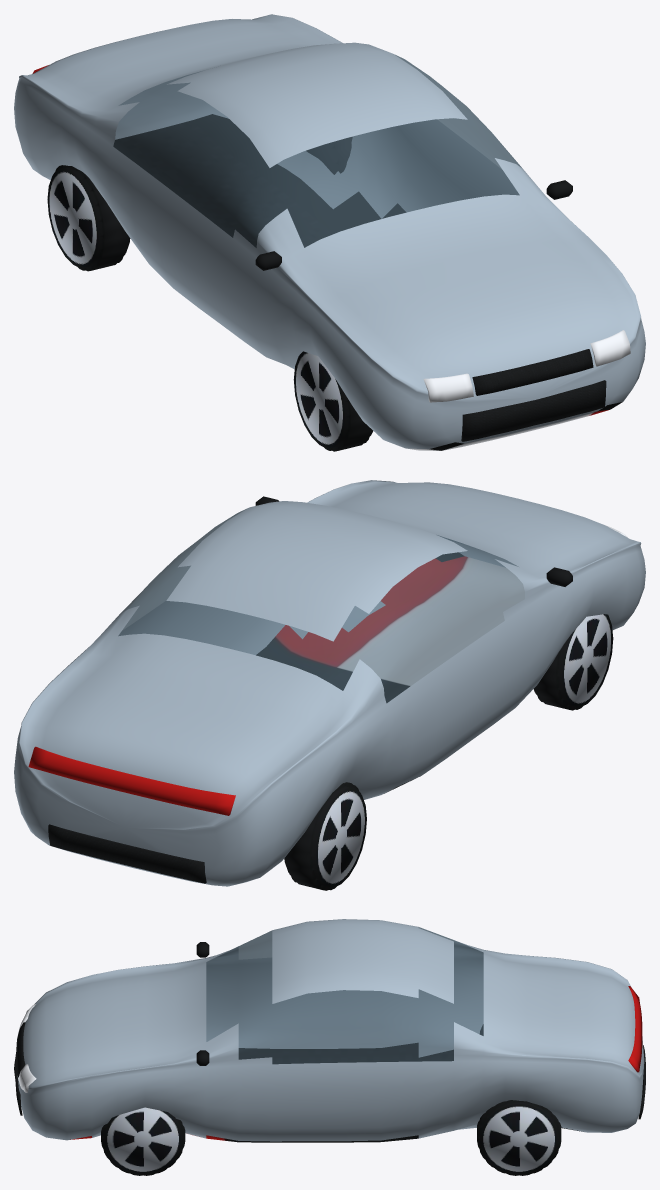
Rendered from parked_sedan_aaa-406a1236dbd2.glb.
3 renders of one model, top to bottom at view 1: azimuth 30°, elevation 25°; view 2: azimuth 150°, elevation 25°; view 3: azimuth 270°, elevation 25°, orthographic. The views are drawn at different scales.
Visible parts, largest first — view 1: parked_sedan_aaa_body; view 2: parked_sedan_aaa_body; view 3: parked_sedan_aaa_body.
Boxes of the visible parts, <box> form: parked_sedan_aaa_body: <box>14,14,645,451</box>; parked_sedan_aaa_body: <box>14,480,645,890</box>; parked_sedan_aaa_body: <box>14,919,645,1175</box>.
Bounding box in the file's own units: 1.94 × 1.41 × 4.44.
Materials: 3 (1 with a texture image).
